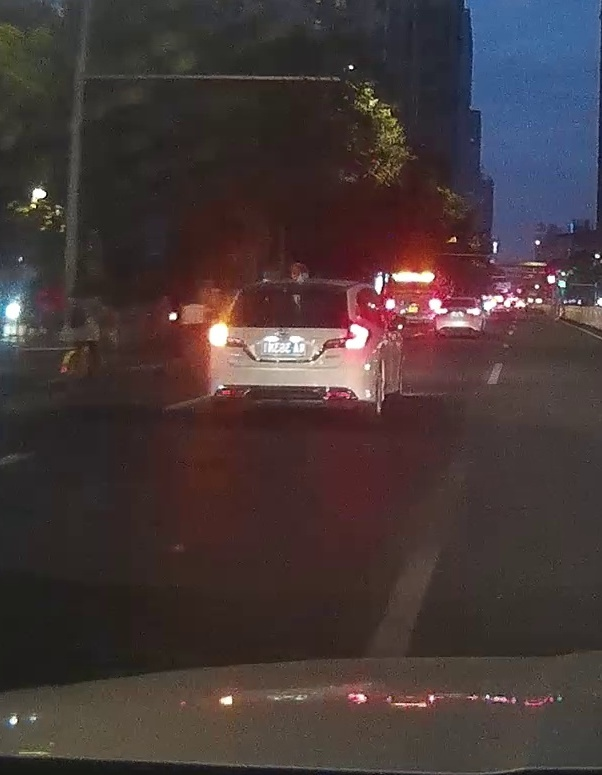L_light: (208, 322, 248, 347)
R_light: (322, 323, 371, 349)
T_light: (282, 282, 309, 287)
night-no: (208, 278, 374, 428)
